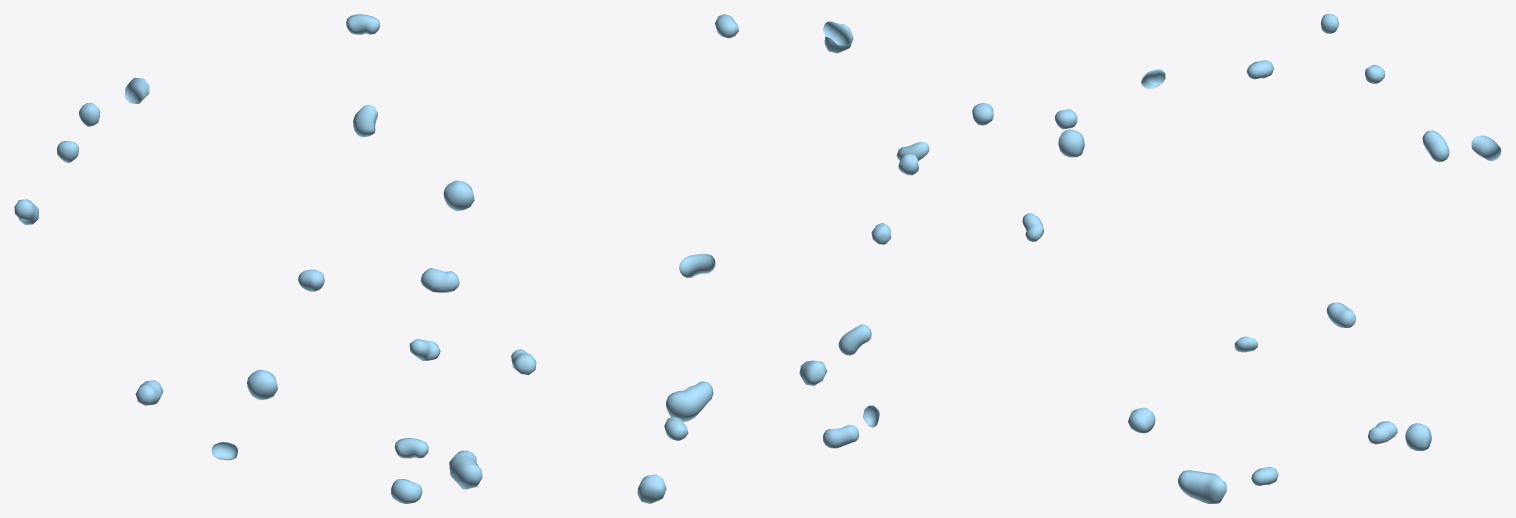
File: Vacuolis.fbx
3 renders of one model, left to right at view 1: azimuth 30°, elevation 25°; view 2: azimuth 150°, elevation 25°; view 3: azimuth 270°, elevation 25°, orthographic. The views are drawn at different scales.
Parts seen in each view (by area): view 1: Vacuoli_1, Vacuoli_2, Vacuoli_13, Vacuoli_3, Vacuoli_5, Vacuoli_15, Vacuoli_4, Vacuoli_12, Vacuoli_11, Vacuoli_7, Vacuoli_14; view 2: Vacuoli_1, Vacuoli_14, Vacuoli_3, Vacuoli_10, Vacuoli_11, Vacuoli_5; view 3: Vacuoli_1, Vacuoli_13, Vacuoli_3, Vacuoli_10, Vacuoli_14, Vacuoli_11, Vacuoli_5.
Part boxes in pixels (bbox=[...]): Vacuoli_1: bbox=[449, 450, 482, 489]; Vacuoli_2: bbox=[420, 268, 459, 292]; Vacuoli_13: bbox=[443, 180, 474, 210]; Vacuoli_3: bbox=[247, 369, 277, 400]; Vacuoli_5: bbox=[391, 479, 422, 503]; Vacuoli_15: bbox=[353, 105, 377, 137]; Vacuoli_4: bbox=[394, 437, 428, 458]; Vacuoli_12: bbox=[346, 14, 379, 34]; Vacuoli_11: bbox=[135, 380, 163, 405]; Vacuoli_7: bbox=[409, 339, 440, 360]; Vacuoli_14: bbox=[124, 77, 149, 103]; Vacuoli_1: bbox=[666, 381, 713, 421]; Vacuoli_14: bbox=[679, 254, 715, 277]; Vacuoli_3: bbox=[637, 474, 666, 503]; Vacuoli_10: bbox=[838, 324, 871, 355]; Vacuoli_11: bbox=[823, 424, 859, 448]; Vacuoli_5: bbox=[799, 360, 827, 385]; Vacuoli_1: bbox=[1178, 470, 1226, 503]; Vacuoli_13: bbox=[1058, 129, 1084, 157]; Vacuoli_3: bbox=[1405, 423, 1431, 450]; Vacuoli_10: bbox=[1422, 130, 1449, 162]; Vacuoli_14: bbox=[1471, 135, 1501, 161]; Vacuoli_11: bbox=[1326, 302, 1355, 327]; Vacuoli_5: bbox=[1128, 407, 1155, 433].
Bounding box in the file's own units: 2709 × 2936 × 3107.
